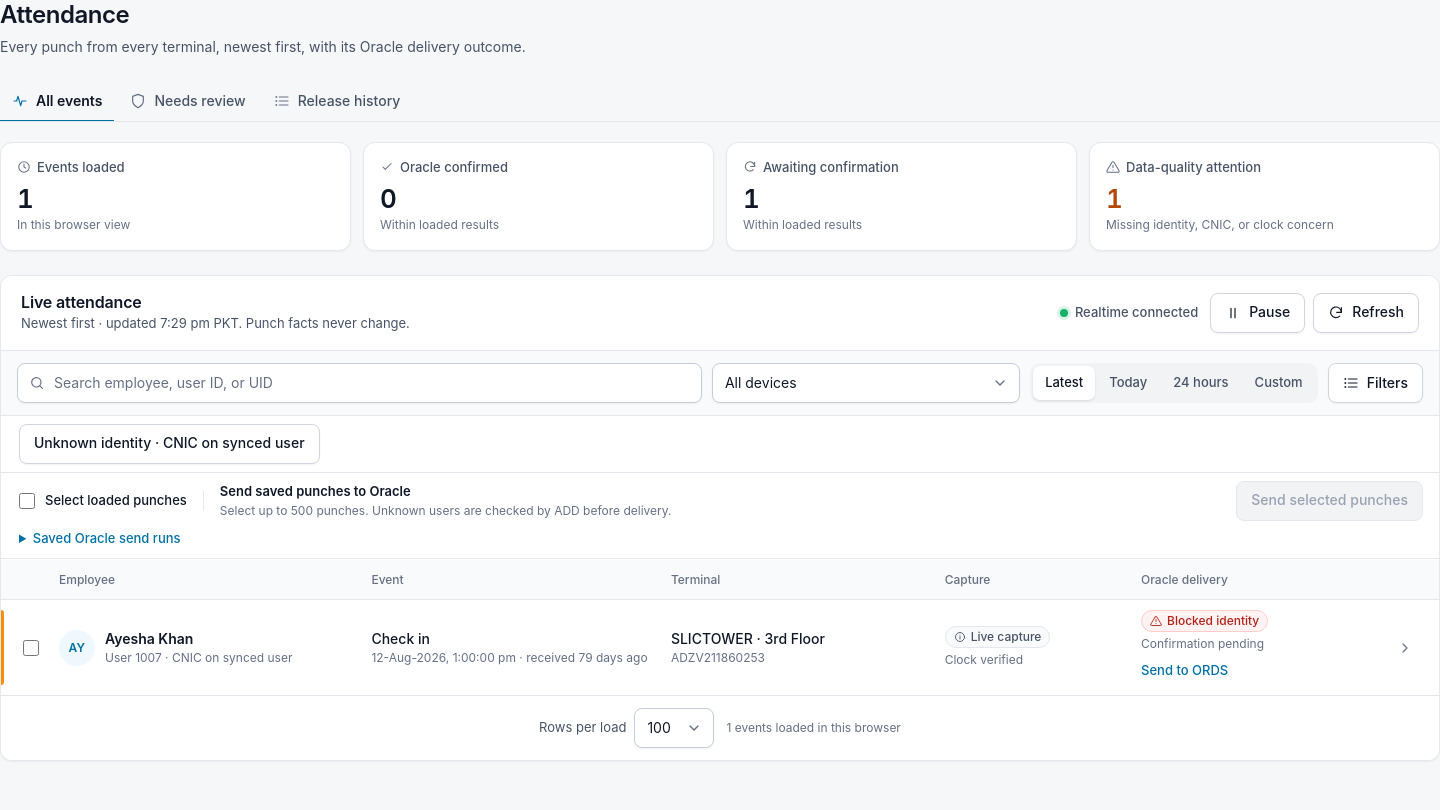
Test: Live attendance workspace › lets an administrator select a held punch when the synced user has a CNIC
Expected: the text "User 1007 · CNIC on synced user" is shown, [105, 650, 292, 667]
Click the button "Send to ORDS". click: click(1185, 671)
box: [1141, 657, 1228, 685]
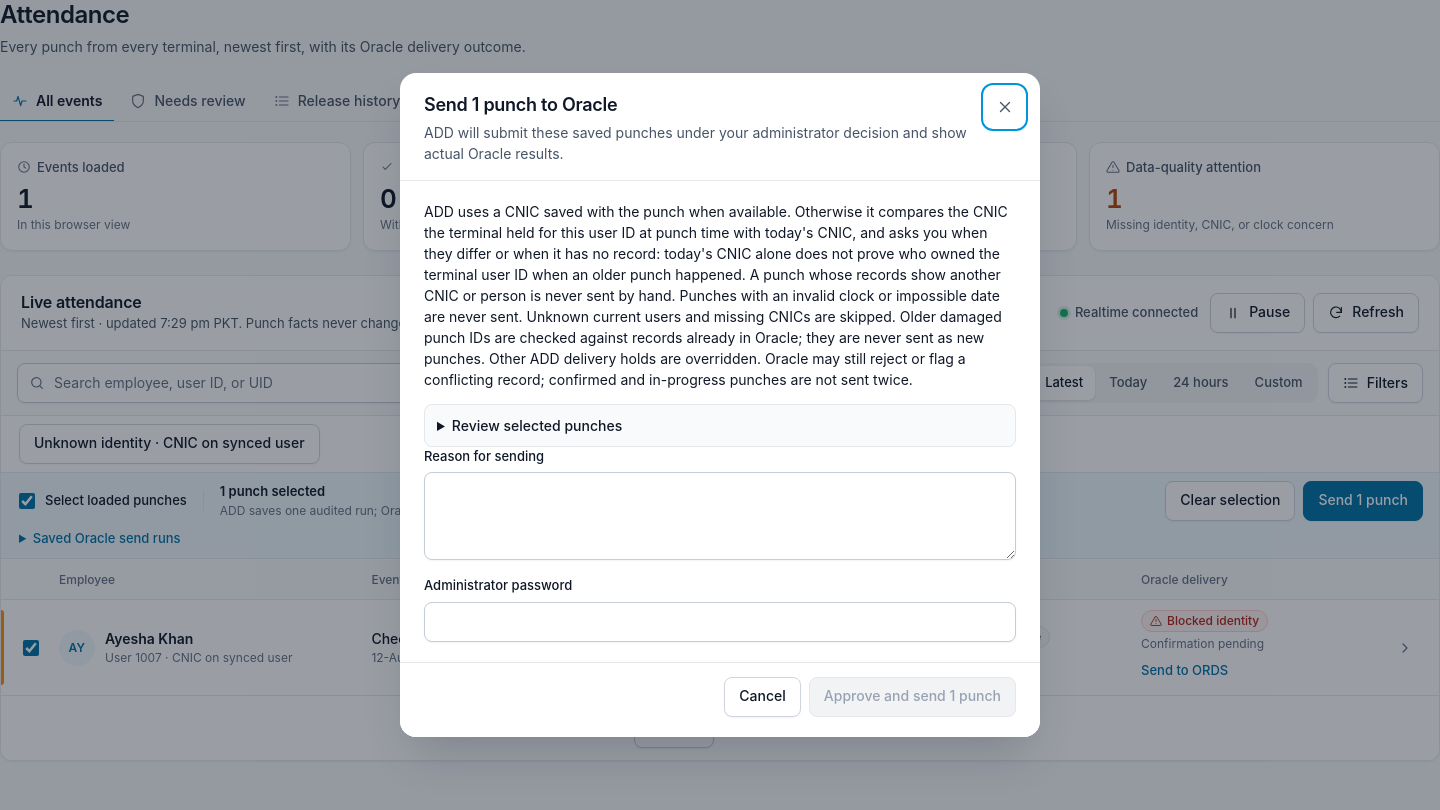
Now the dialog shows "compares the CNIC the terminal held for this user ID at punch time", box [424, 203, 1008, 388]
Now the dialog shows "does not prove who owned the terminal user ID", box [424, 203, 1008, 388]
